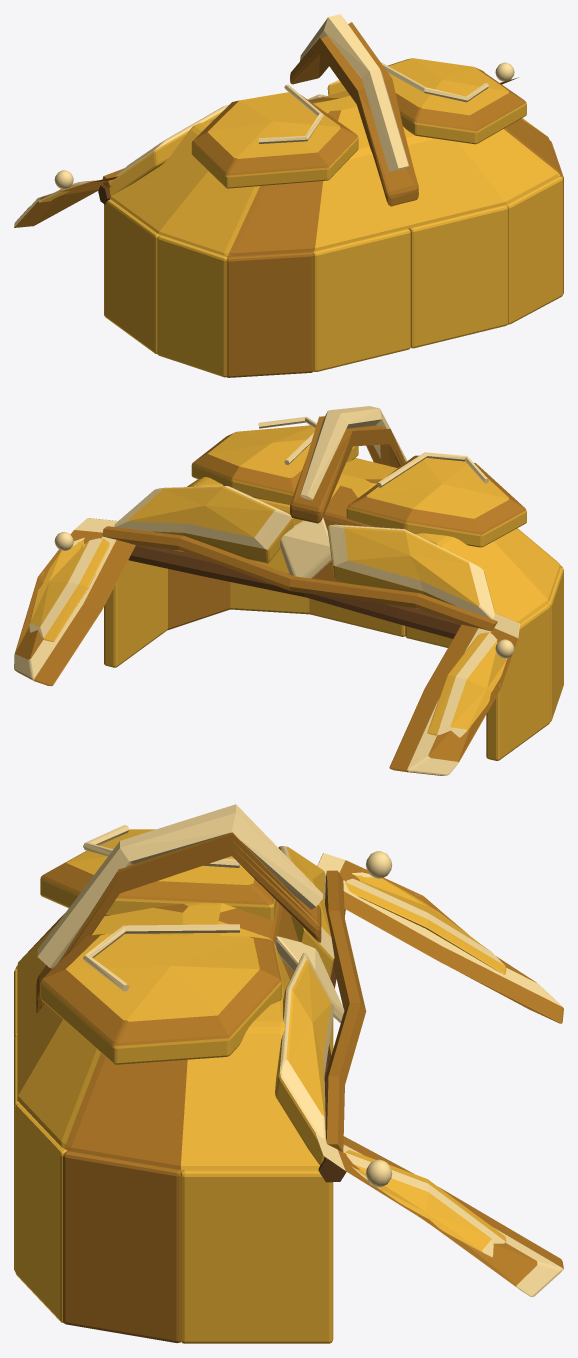
Rendered from gold_helmet.fbx.
3 views of the same model, one above another, from view 1: azimuth 30°, elevation 25°; view 2: azimuth 150°, elevation 25°; view 3: azimuth 270°, elevation 25° (orthographic). The views are drawn at different scales.
Parts seen in each view (by area): view 1: gold_helmet_armor; view 2: gold_helmet_armor; view 3: gold_helmet_armor.
Part boxes in pixels (x1=…): gold_helmet_armor: x1=14, y1=14, x2=563, y2=377; gold_helmet_armor: x1=14, y1=406, x2=563, y2=775; gold_helmet_armor: x1=14, y1=804, x2=563, y2=1343.
Size of the model in its own units: 4.51 by 2.59 by 3.24.
Materials: 1 (1 with a texture image).
